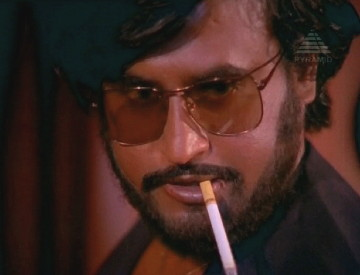cigarette: (196, 177, 240, 272)
